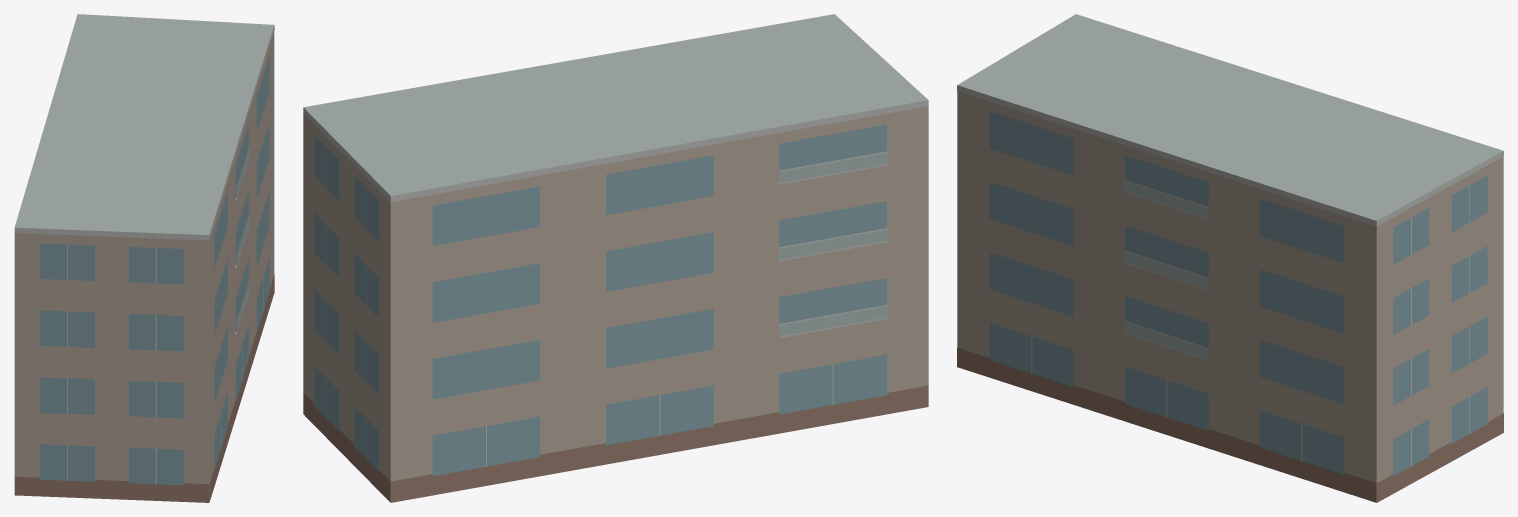
File: survey-upis-32867640.glb
3 renders of one model, left to right at view 1: azimuth 30°, elevation 25°; view 2: azimuth 150°, elevation 25°; view 3: azimuth 270°, elevation 25°, orthographic. The views are drawn at different scales.
Visible parts, largest first — view 1: survey-upis-32867640.tmp; view 2: survey-upis-32867640.tmp; view 3: survey-upis-32867640.tmp.
Part boxes in pixels (x1,y1,x2,y2): survey-upis-32867640.tmp: (14,14,274,502); survey-upis-32867640.tmp: (303,14,928,502); survey-upis-32867640.tmp: (957,14,1503,502).
Bounding box in the file's own units: 19.22 × 12.2 × 21.45.
